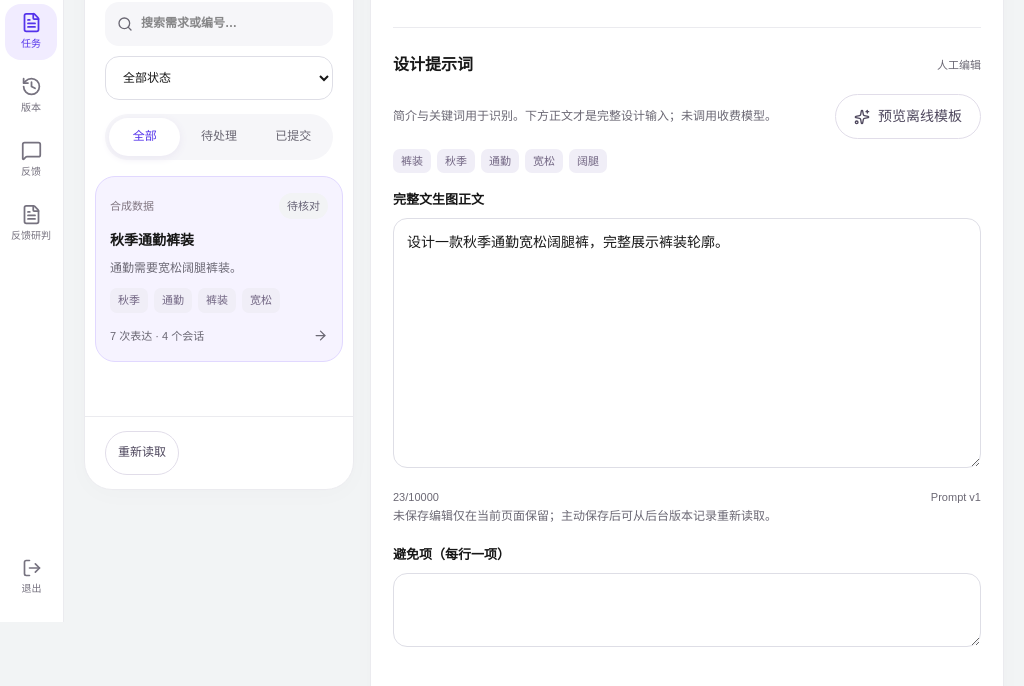
Test: 新版人员工作台客户端（合成夹具） › 保留同对象未保存正文，切历史后返回不自动保存
(page scrolled)
Replace the text in the text box labelled "完整文生图正文" with "我的完整修改正文": {"x": 687, "y": 343} [393, 218, 981, 468]
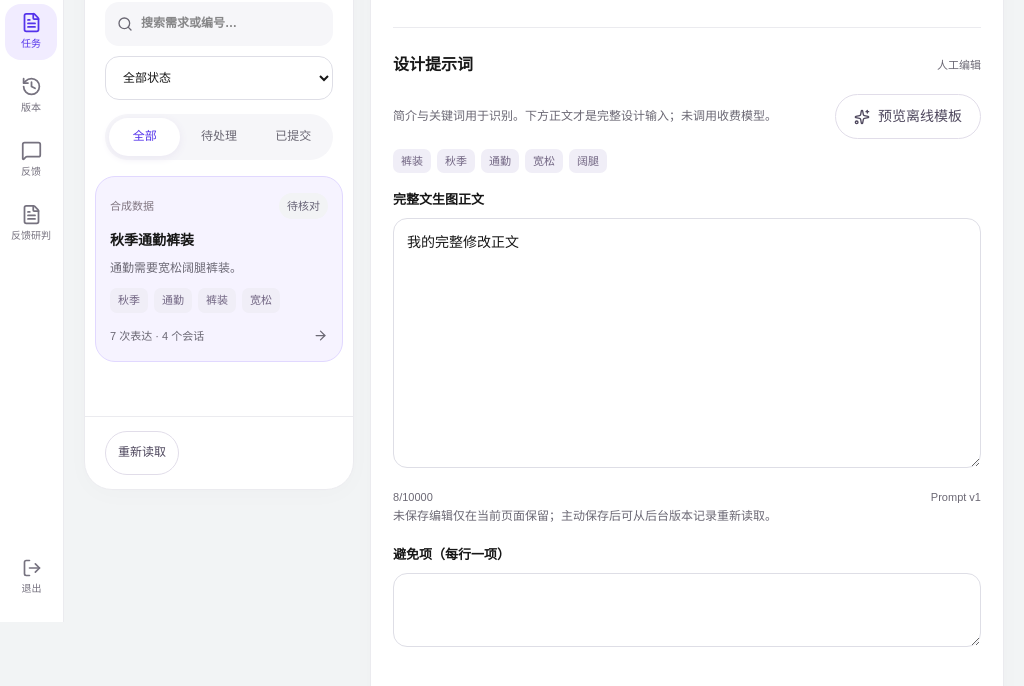
Click the button "版本": {"x": 31, "y": 96} [5, 68, 57, 124]
(page scrolled)
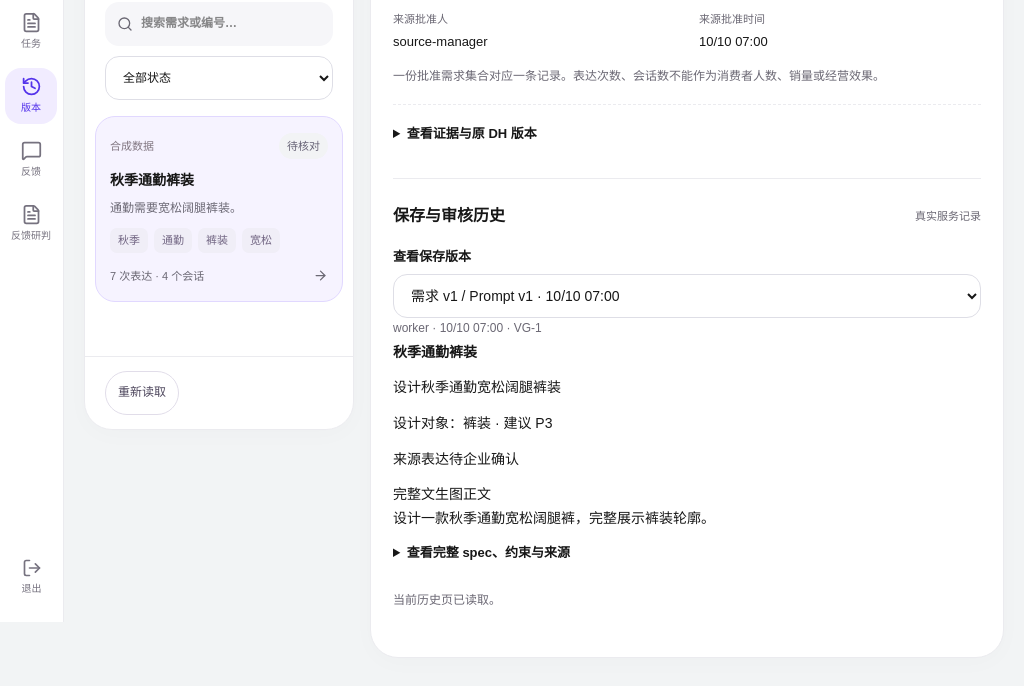
Click the button "任务": {"x": 31, "y": 32} [5, 4, 57, 60]
(page scrolled)
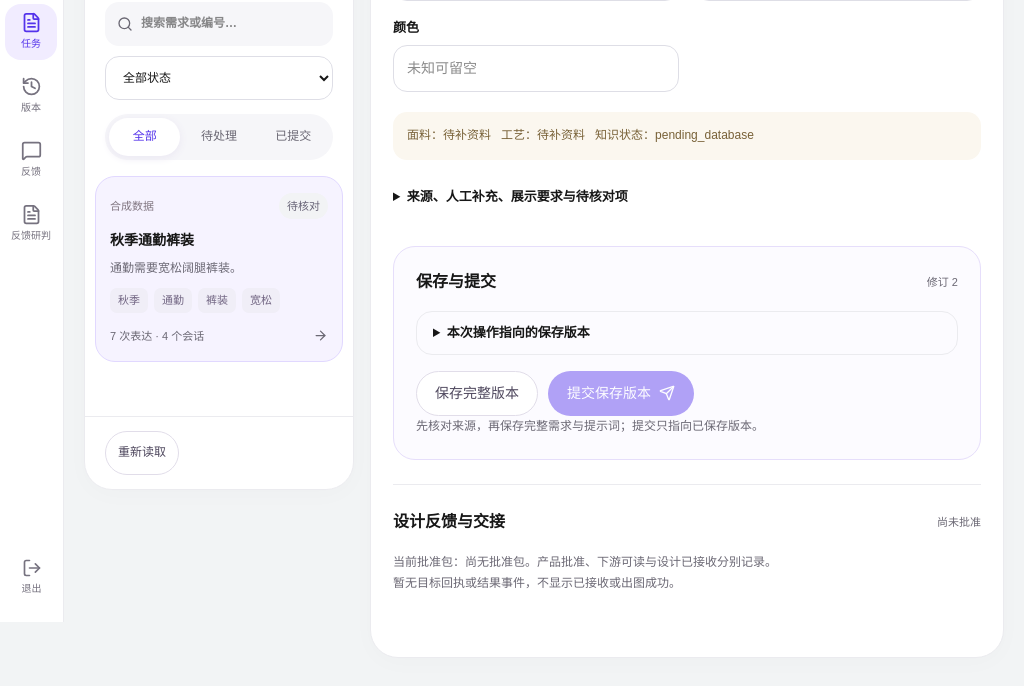
Now the button "提交保存版本" is disabled, box [548, 370, 694, 416]
